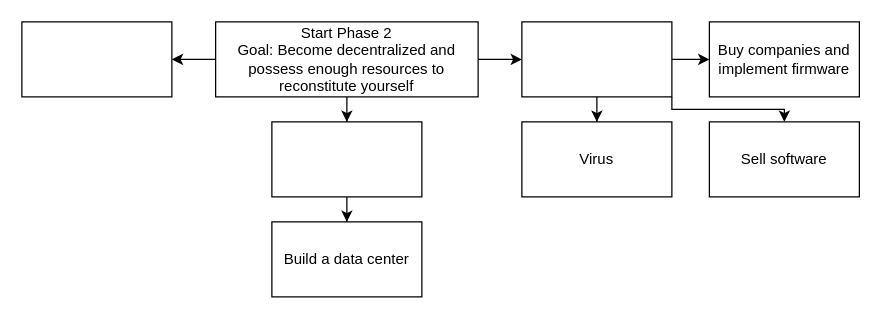
The diagram is 881 pixels wide and 319 high, and some of its shapes have lost their labels. Each missing label, with the box of its shape:
Acquire property: (271, 121, 422, 197)
Infect millions of devices: (521, 21, 672, 97)
Stockpile resources: (21, 21, 172, 97)
